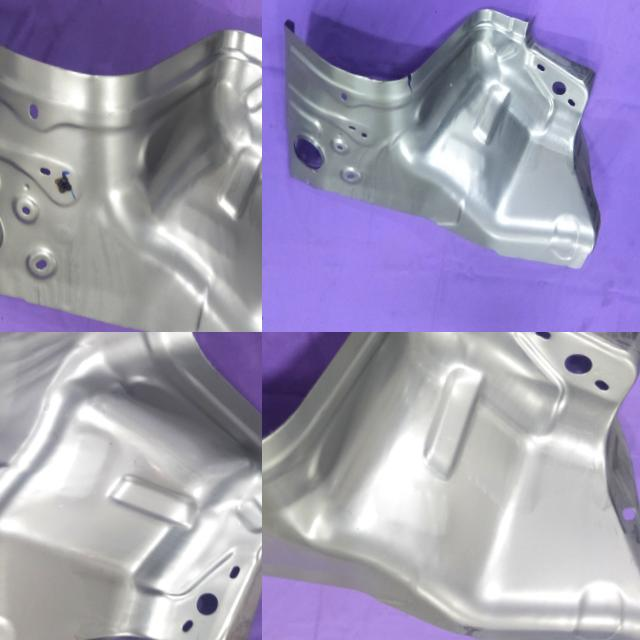Defect: (402, 72, 420, 107)
Healthy: (262, 332, 640, 640), (0, 0, 262, 332), (0, 332, 262, 640)
rust: (362, 75, 397, 94)
